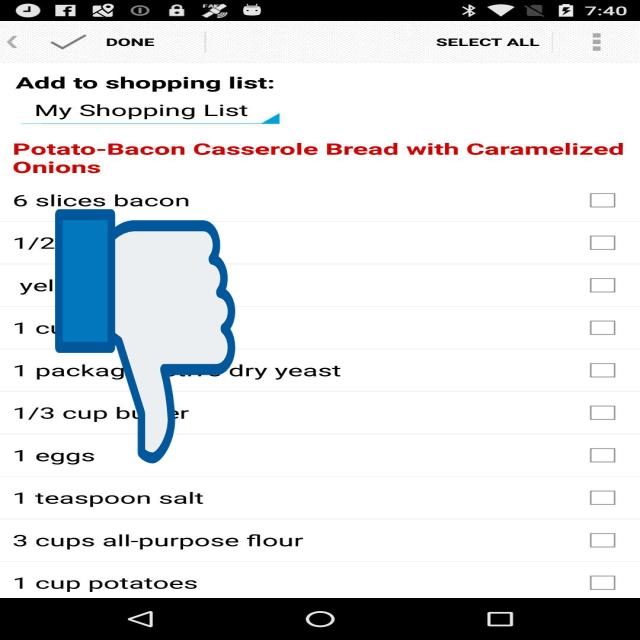obstruction: (55, 204, 235, 469)
